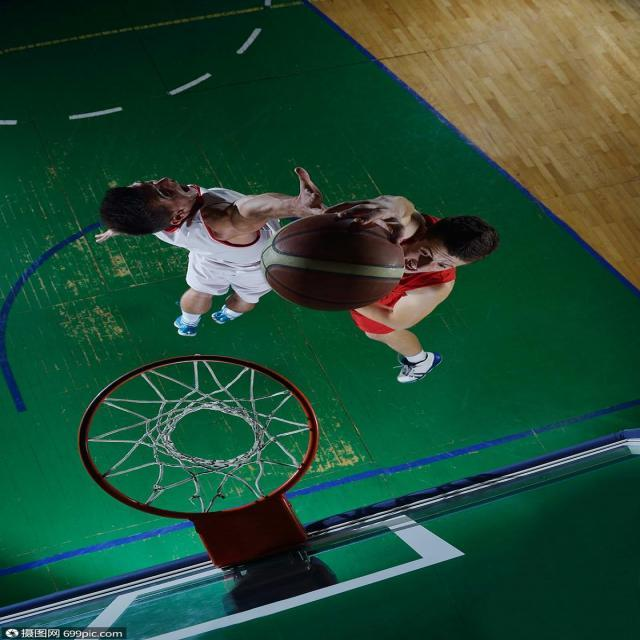rim: (255, 208, 404, 310)
